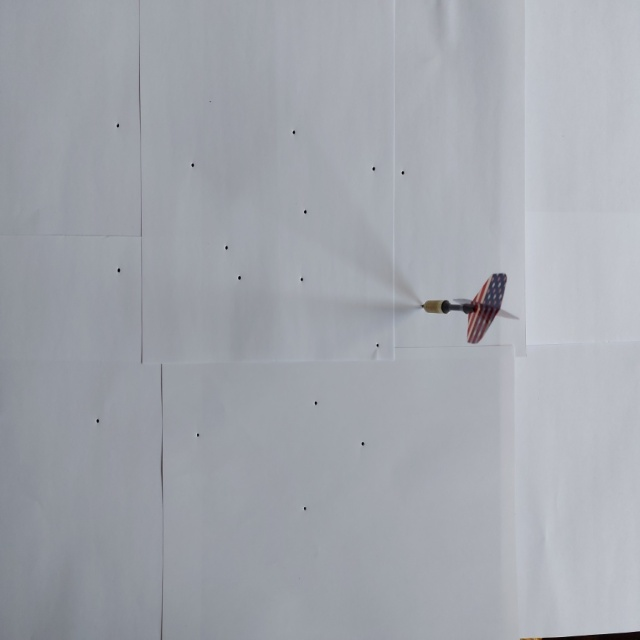Dart: (418, 271, 526, 348)
